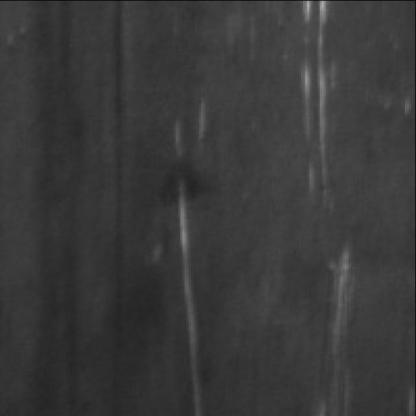inclusion: (31, 8, 96, 414), (108, 2, 133, 272)
scratches: (175, 112, 214, 414), (297, 2, 337, 208), (324, 240, 360, 375)
